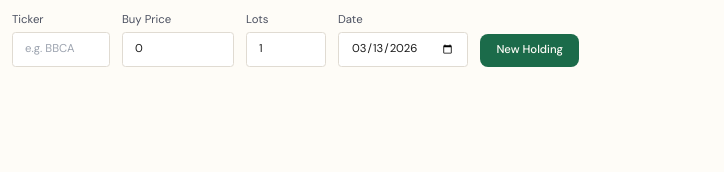
BuyHoldingForm › shows error on API failure
Type "BBCA" into the field labelled "Ticker". click: (61, 49)
box: [12,32,110,67]
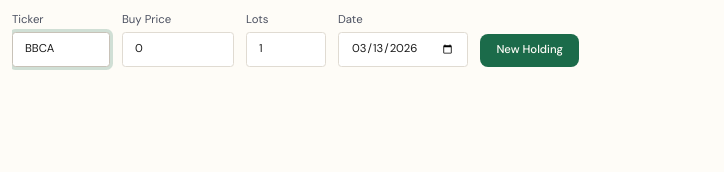
Replace the text in the number field labelled "Buy Price" with "8500". click: (178, 49)
box: [122,32,234,67]
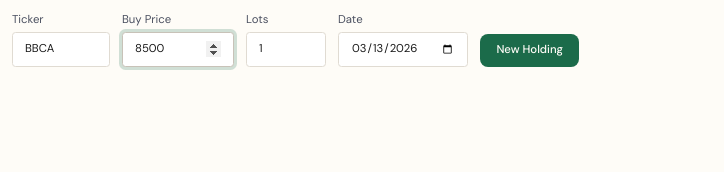
Replace the text in the number field labelled "Lots" with "10". click: (286, 49)
box: [246,32,326,67]
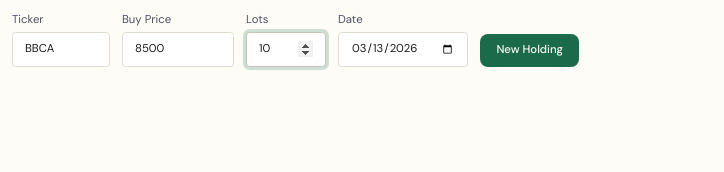
Click the button "New Holding". click: click(530, 50)
box: [480,34,579,67]
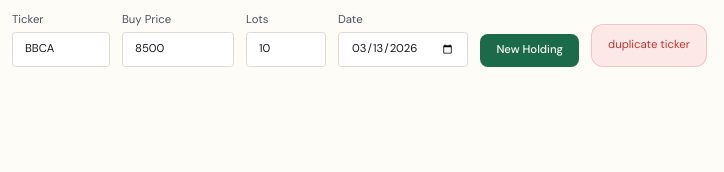
Expected: the message reads "duplicate ticker", [608,37,690,52]
